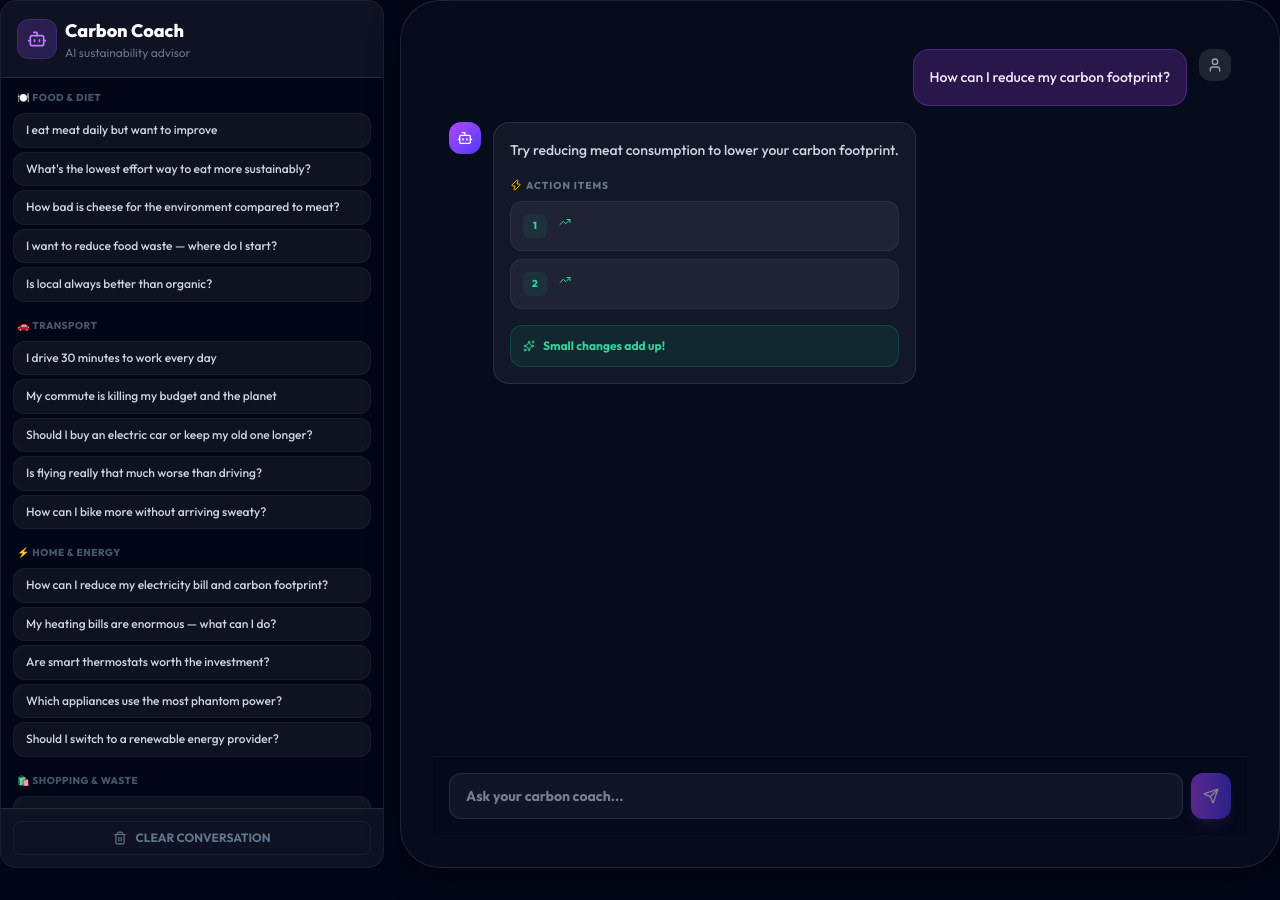
CoachTab › displays fallback when API fails
Type "transport advice" into the field with placeholder "Ask your carbon coach..." at (816, 796), box [449,773,1183,819]
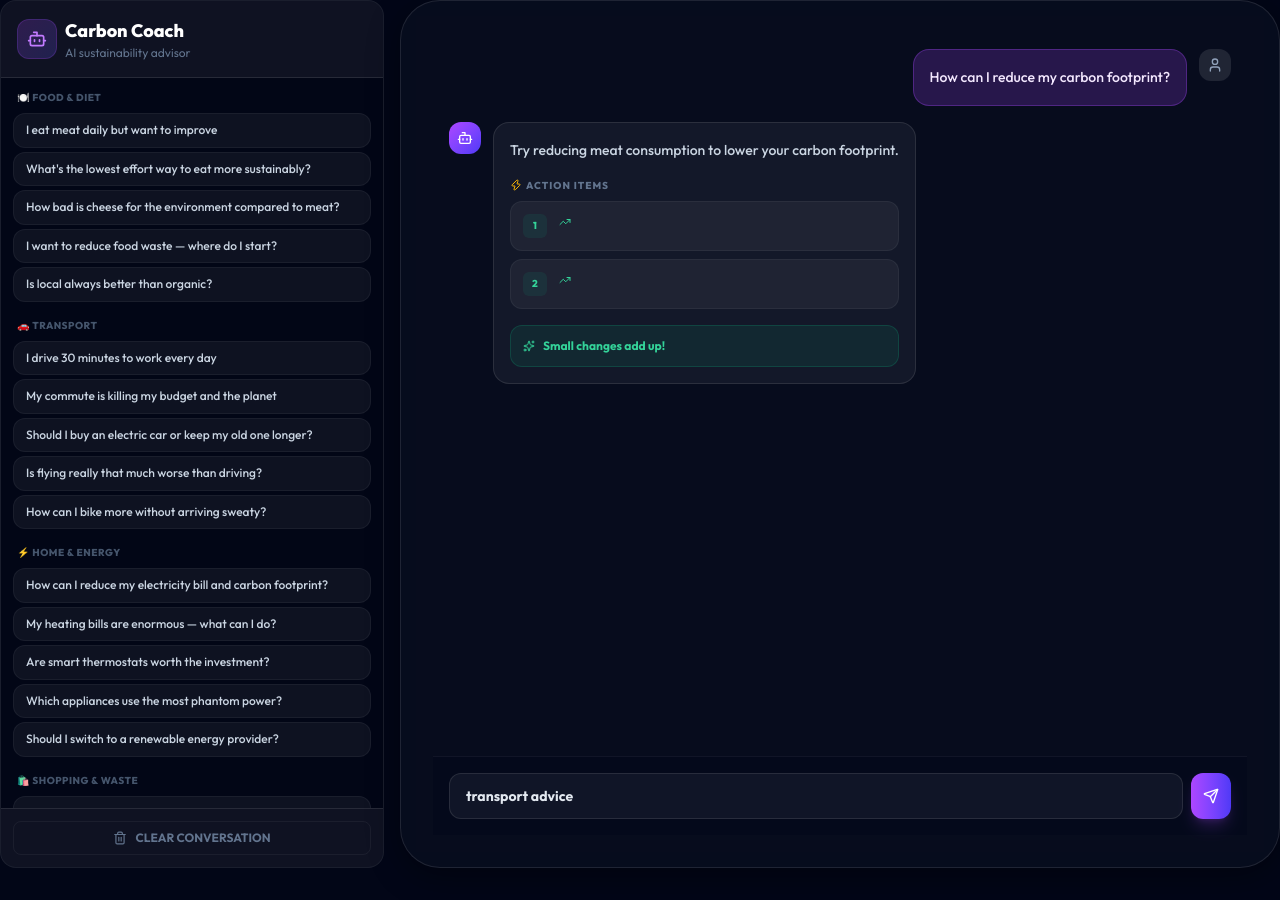
Click the button named "send message" at (1211, 796), box [1191,773,1231,819]
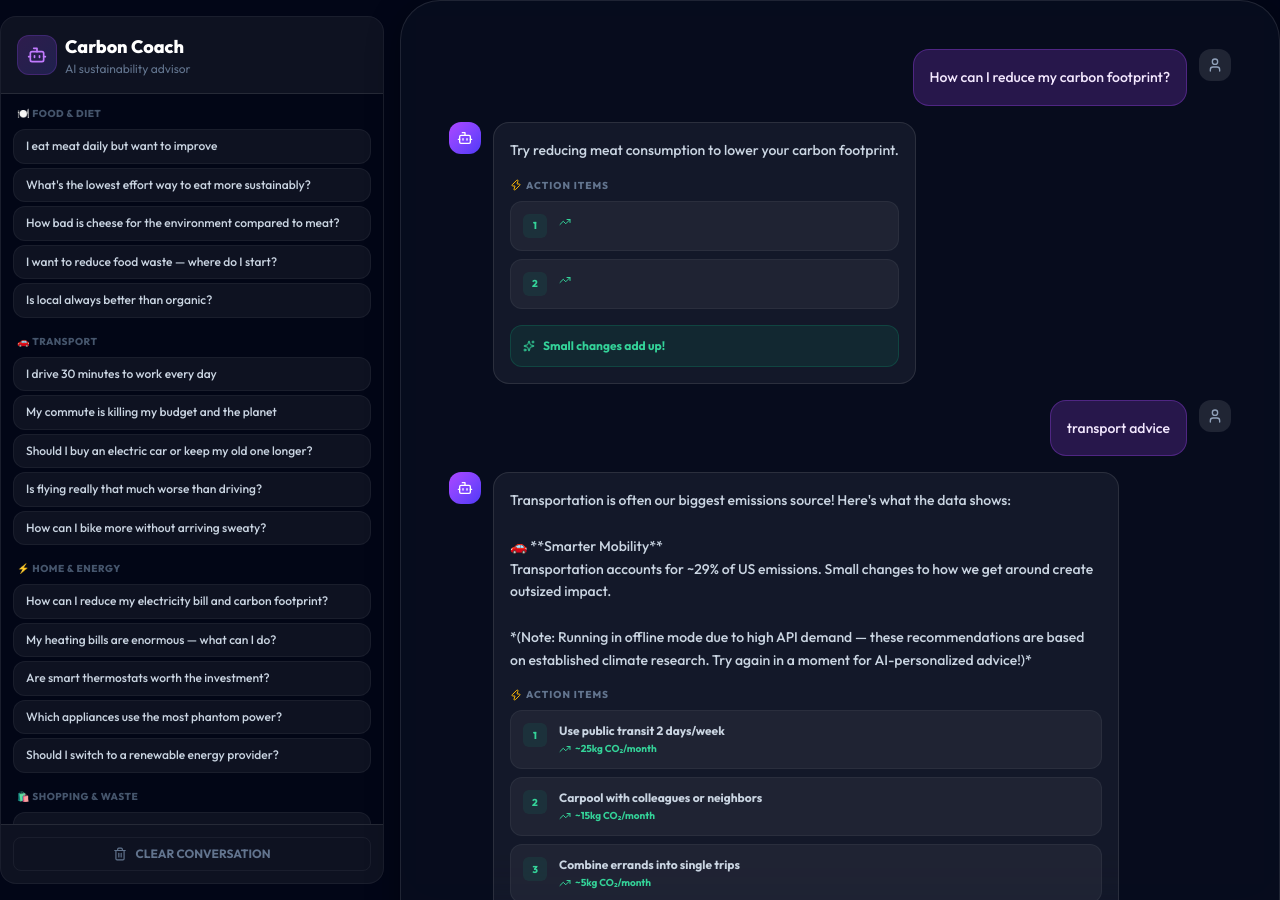
Expected: the text "Transportation is often our biggest emissions source" is shown, [510,491,1093,669]
